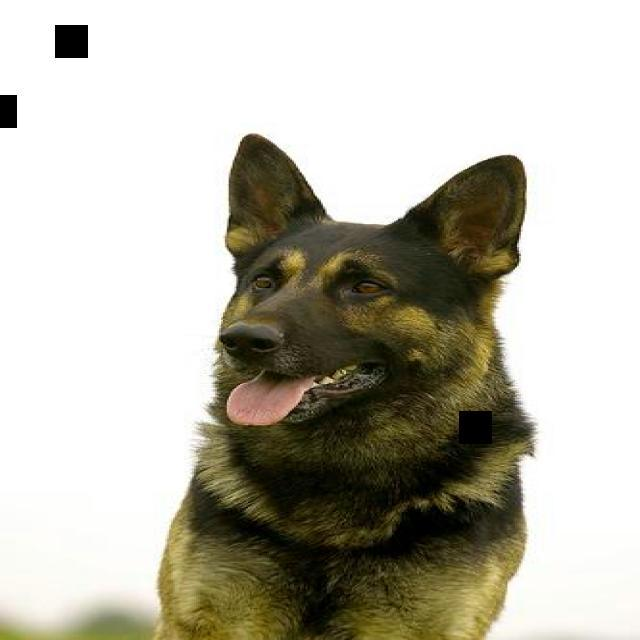adult_dog: (155, 129, 536, 640)
